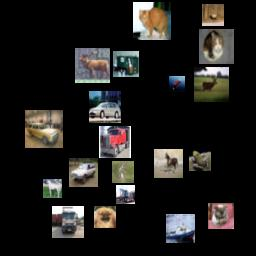automobile: (25, 110, 63, 148), (89, 91, 121, 123), (69, 158, 98, 187)
cat: (133, 2, 171, 40), (199, 29, 234, 64), (208, 203, 234, 229)
deer: (194, 67, 229, 102), (75, 48, 110, 83), (112, 161, 134, 183), (202, 4, 224, 26)
dog: (94, 206, 116, 228)
frog: (189, 149, 211, 171)
ship: (166, 214, 195, 243), (169, 76, 185, 92)
truck: (99, 126, 131, 158), (52, 206, 84, 238), (113, 51, 139, 77), (116, 185, 135, 204)
